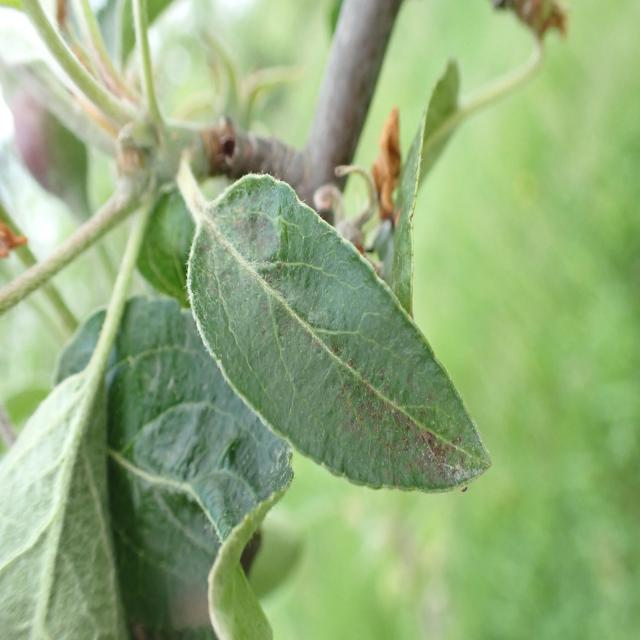scab: (200, 189, 492, 491)
